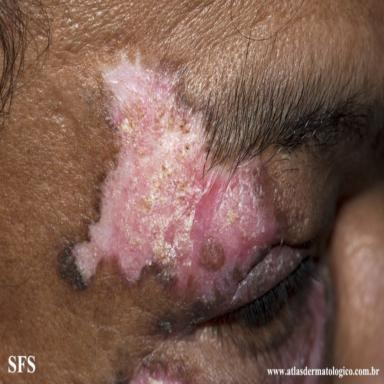Lupus-Erythematosus-Chronicus-Discoides: (58, 55, 311, 335), (130, 355, 183, 384)
